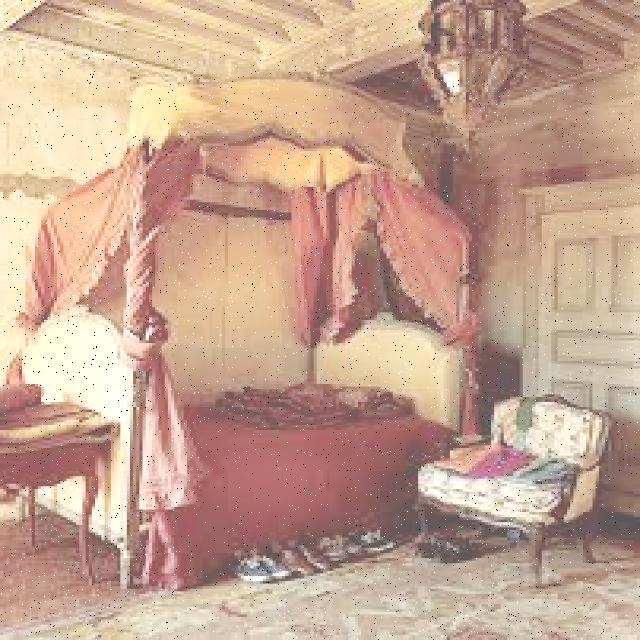bed: (133, 332, 438, 577)
